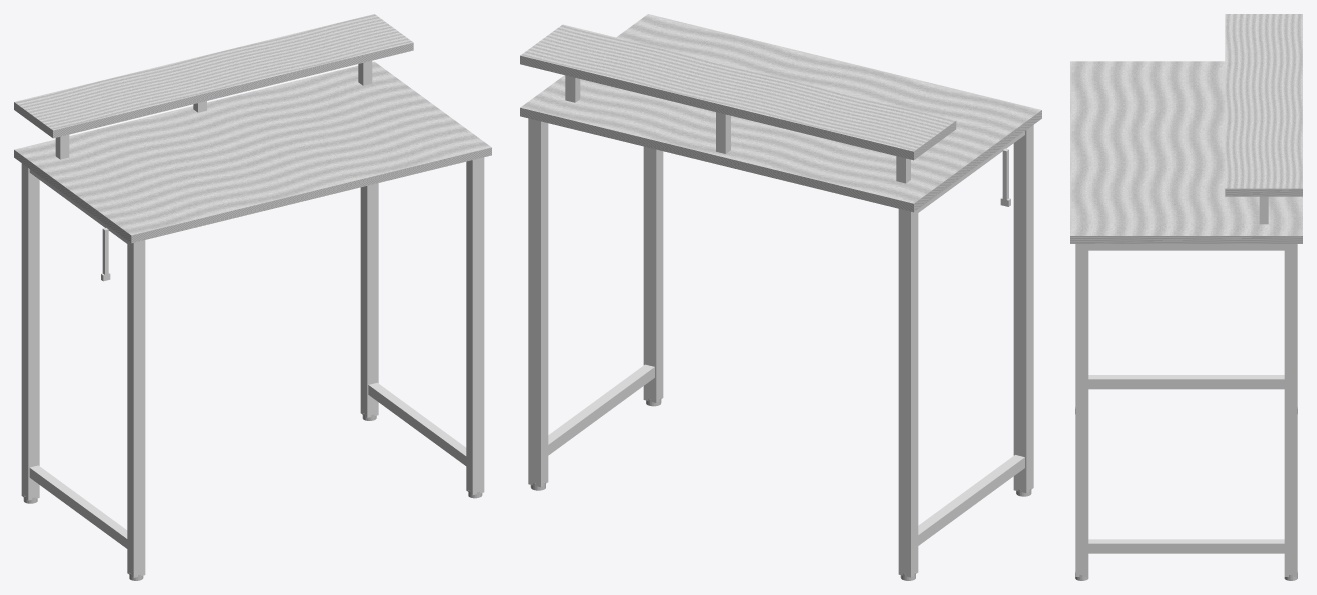
The picture shows the model from 3 angles, left to right: view 1: azimuth 30°, elevation 25°; view 2: azimuth 150°, elevation 25°; view 3: azimuth 270°, elevation 25°; orthographic projection. The views are drawn at different scales.
Parts seen in each view (by area): view 1: 1 desktop, 2 monitor_stand_top, 6 leg_front_left, 7 leg_front_right, 8 leg_back_left, 9 leg_back_right, 15 side_bottom_bar_right, 14 side_bottom_bar_left; view 2: 1 desktop, 2 monitor_stand_top, 8 leg_back_left, 9 leg_back_right, 6 leg_front_left, 7 leg_front_right, 15 side_bottom_bar_right, 14 side_bottom_bar_left; view 3: 1 desktop, 2 monitor_stand_top, 7 leg_front_right, 9 leg_back_right, 14 side_bottom_bar_left, 15 side_bottom_bar_right, 17 side_top_bar_right.
Part boxes in pixels (box(x1,y1,x2,y2)): 1 desktop: box(14, 61, 491, 243); 2 monitor_stand_top: box(14, 14, 413, 138); 6 leg_front_left: box(127, 240, 145, 577); 7 leg_front_right: box(466, 157, 484, 494); 8 leg_back_left: box(21, 163, 39, 500); 9 leg_back_right: box(360, 183, 378, 417); 15 side_bottom_bar_right: box(368, 382, 466, 465); 14 side_bottom_bar_left: box(29, 465, 127, 548); 1 desktop: box(520, 14, 1041, 212); 2 monitor_stand_top: box(520, 24, 956, 160); 8 leg_back_left: box(898, 209, 918, 577); 9 leg_back_right: box(528, 118, 548, 487); 6 leg_front_left: box(1013, 125, 1033, 493); 7 leg_front_right: box(643, 146, 663, 402); 15 side_bottom_bar_right: box(548, 364, 654, 455); 14 side_bottom_bar_left: box(918, 455, 1024, 545); 1 desktop: box(1070, 61, 1302, 243); 2 monitor_stand_top: box(1225, 14, 1302, 196); 7 leg_front_right: box(1075, 244, 1088, 576); 9 leg_back_right: box(1284, 244, 1297, 576); 14 side_bottom_bar_left: box(1088, 375, 1284, 389); 15 side_bottom_bar_right: box(1088, 539, 1284, 553); 17 side_top_bar_right: box(1088, 244, 1284, 250).
Size of the model in its own units: 0.95 by 1 by 0.535.
Materials: 3 (1 with a texture image).
